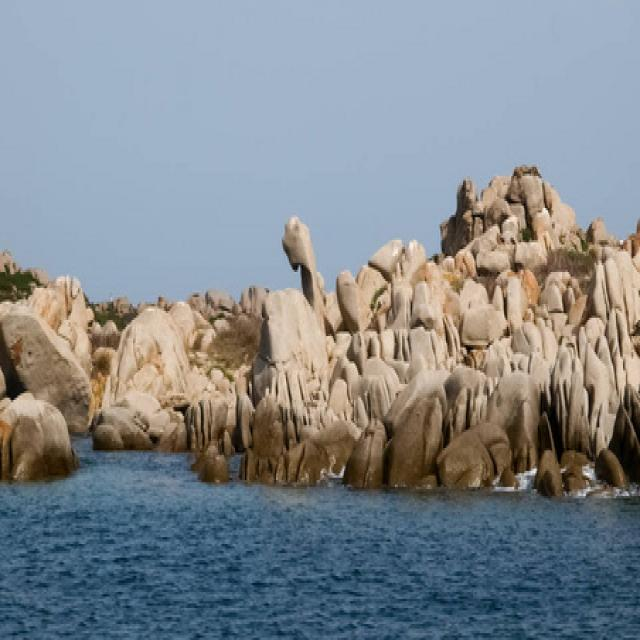reef: (0, 398, 622, 530)
